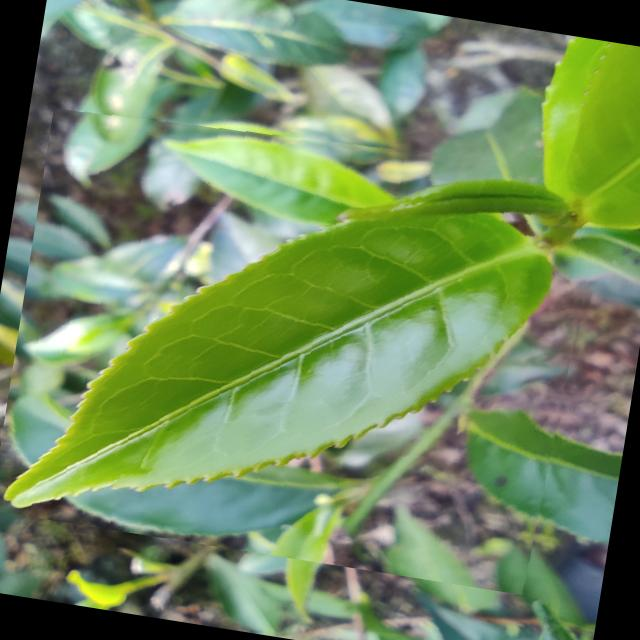Category B(2-4 days): (0, 88, 608, 598)
